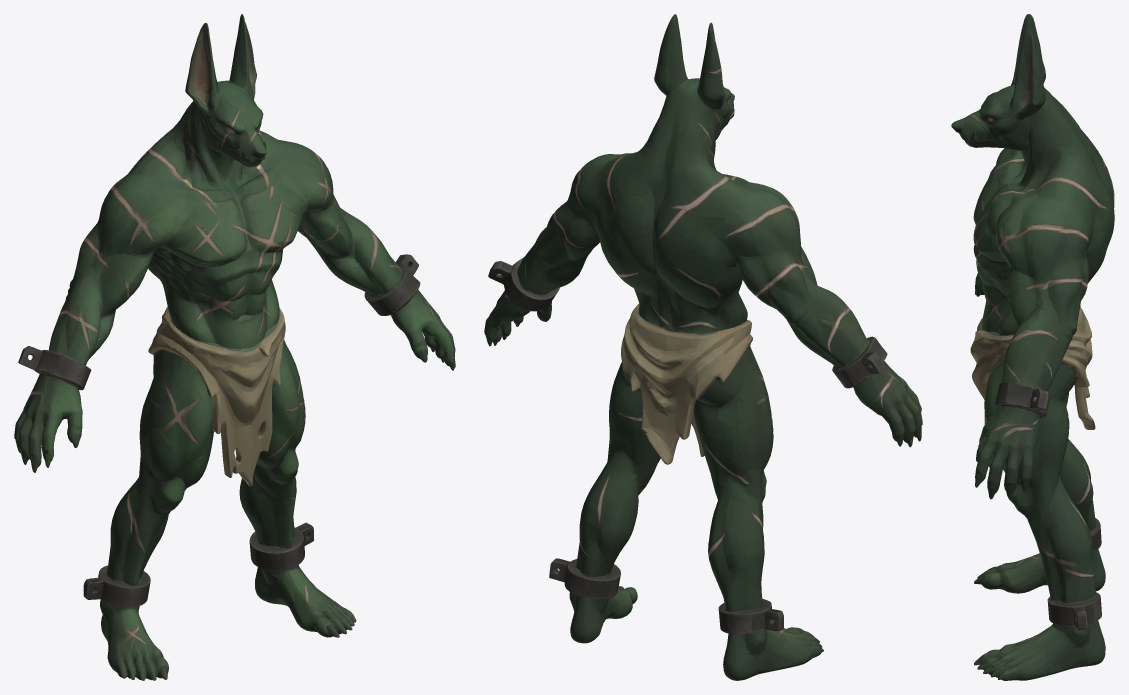
The model's file is et_prisoner.glb.
3 renders of one model, left to right at view 1: azimuth 30°, elevation 25°; view 2: azimuth 150°, elevation 25°; view 3: azimuth 270°, elevation 25°, orthographic. The views are drawn at different scales.
Size of the model in its own units: 1.36 by 1.9 by 0.4617.
1 material, 1 textured.
